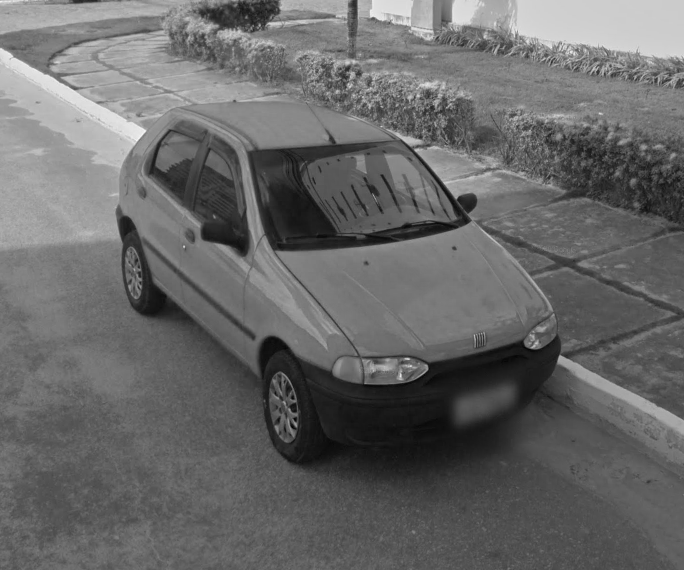car: (114, 90, 566, 464)
